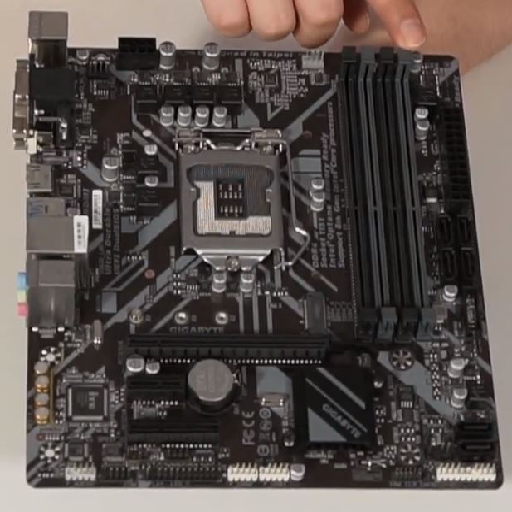CPU: (173, 143, 289, 271)
GPU: (122, 328, 353, 365)
MOTHERBOARD: (16, 38, 507, 496)
RAM: (334, 43, 440, 335)
SSD: (298, 291, 328, 336)
